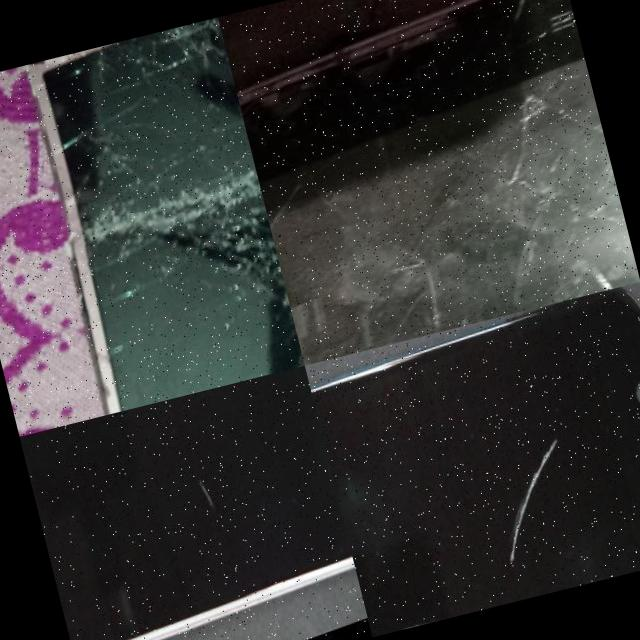scratch: (482, 446, 584, 581), (187, 473, 227, 532)
screen crack: (231, 0, 640, 364), (10, 16, 304, 416)
